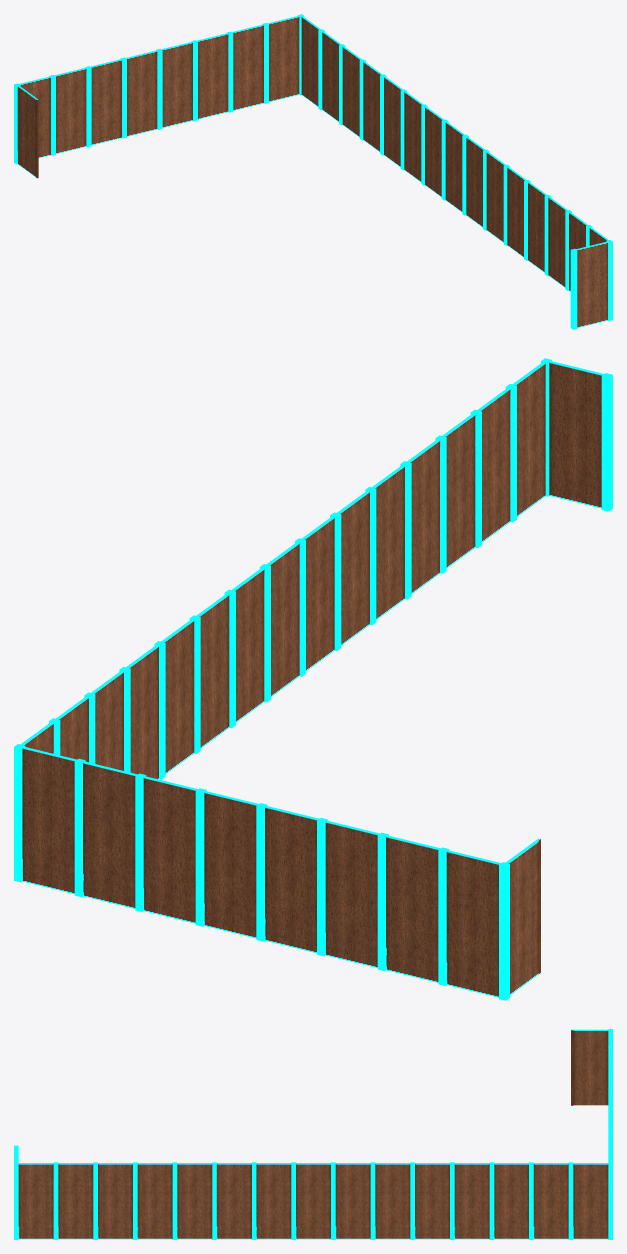
Rendered from fence1.glb.
3 renders of one model, top to bottom at view 1: azimuth 30°, elevation 25°; view 2: azimuth 150°, elevation 25°; view 3: azimuth 270°, elevation 25°, orthographic. The views are drawn at different scales.
Visible parts, largest first — view 1: Box193, Box211, Box213, Box214, Box215, Box210, Box212, Box209, Box217, Box206, Box199, Box201 (+13 smaller); view 2: Box193, Box215, Box212, Box210, Box213, Box211, Box216, Box214, Box209, Box217, Box199, Box196 (+13 smaller); view 3: Box195, Box198, Box203, Box208, Box199, Box201, Box204, Box206, Box194, Box196, Box197, Box202 (+5 smaller).
Part boxes in pixels (x1,y1,x2,y2): Box193: [570, 241, 609, 329]; Box211: [194, 31, 233, 119]; Box213: [123, 49, 162, 136]; Box214: [88, 57, 126, 145]; Box215: [52, 66, 91, 153]; Box210: [230, 23, 268, 110]; Box212: [159, 40, 197, 127]; Box209: [265, 14, 304, 101]; Box217: [14, 83, 38, 178]; Box206: [342, 45, 365, 140]; Box199: [486, 151, 509, 245]; Box201: [445, 120, 468, 215]; Box193: [546, 360, 612, 511]; Box215: [377, 832, 444, 982]; Box212: [195, 788, 261, 938]; Box210: [74, 758, 141, 908]; Box213: [256, 803, 322, 953]; Box211: [135, 773, 201, 923]; Box216: [438, 847, 504, 997]; Box214: [317, 818, 383, 967]; Box209: [14, 744, 79, 893]; Box217: [499, 838, 540, 1000]; Box199: [335, 487, 376, 645]; Box196: [440, 409, 481, 568]; Box195: [53, 1162, 95, 1239]; Box198: [172, 1162, 214, 1239]; Box203: [370, 1162, 412, 1239]; Box208: [568, 1162, 610, 1239]; Box199: [212, 1162, 254, 1239]; Box201: [291, 1162, 333, 1239]; Box204: [410, 1162, 452, 1239]; Box206: [489, 1162, 531, 1239]; Box194: [14, 1162, 55, 1239]; Box196: [93, 1162, 134, 1239]; Box197: [133, 1162, 174, 1239]; Box202: [331, 1162, 372, 1239].
Size of what is drawn, in the model's own units: 17.33 by 4.51 by 32.4.
1 material, 1 textured.
